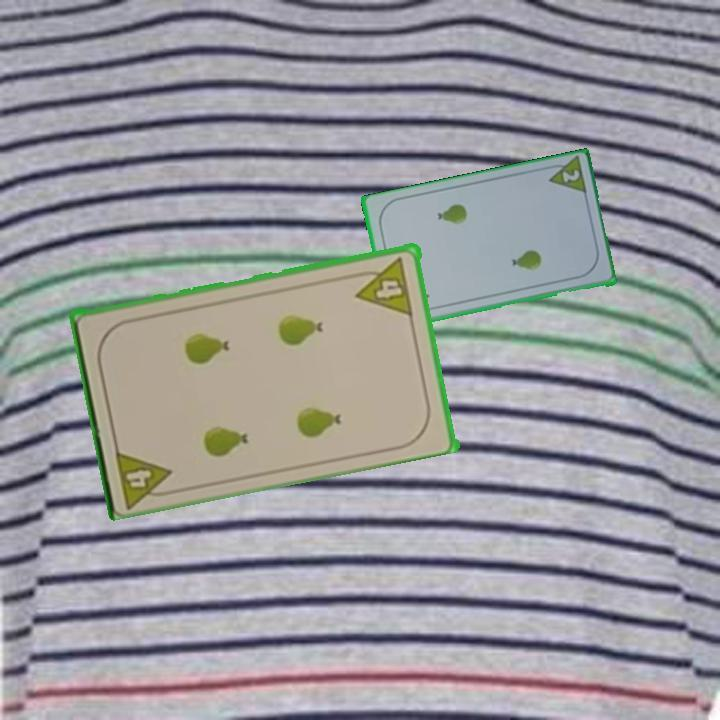2p: (558, 166, 582, 186)
4p: (111, 443, 179, 508), (350, 253, 416, 318)
